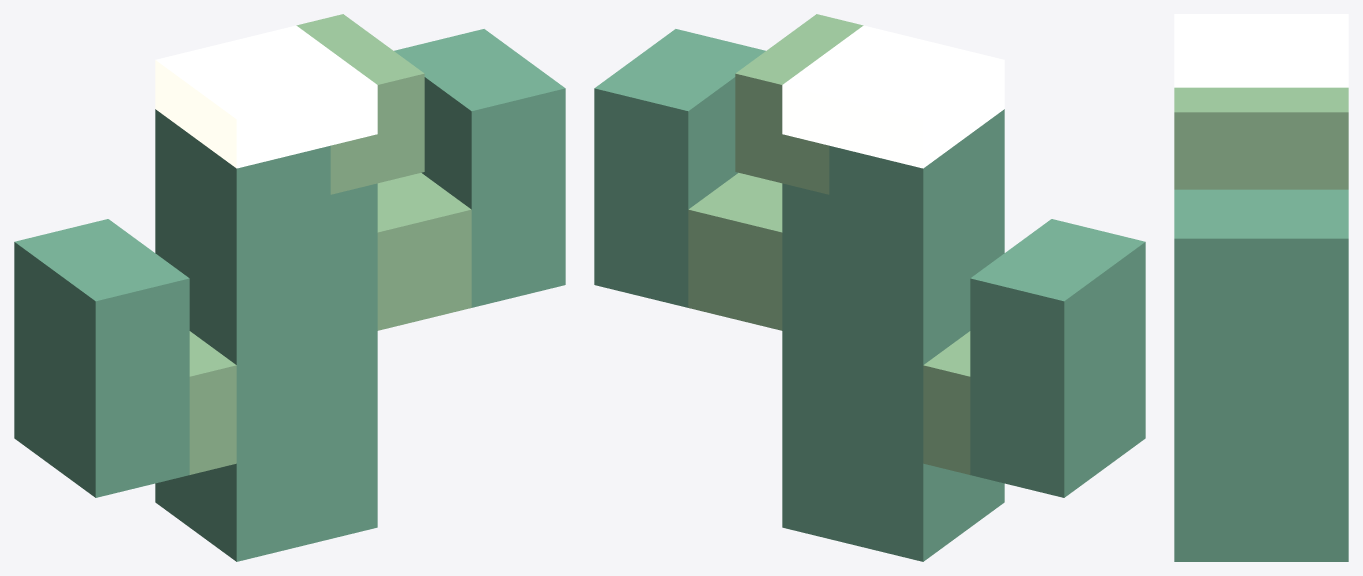
Rendered from cactus_twin.glb.
3 renders of one model, left to right at view 1: azimuth 30°, elevation 25°; view 2: azimuth 150°, elevation 25°; view 3: azimuth 270°, elevation 25°, orthographic. The views are drawn at different scales.
Parts seen in each view (by area): view 1: CactusVariant1Surface; view 2: CactusVariant1Surface; view 3: CactusVariant1Surface.
Boxes of the visible parts, x1,y1,x2,y2 form: CactusVariant1Surface: [14, 14, 565, 561]; CactusVariant1Surface: [594, 14, 1145, 561]; CactusVariant1Surface: [1174, 14, 1348, 561].
Size of the model in its own units: 2.5 by 2.25 by 0.75.
